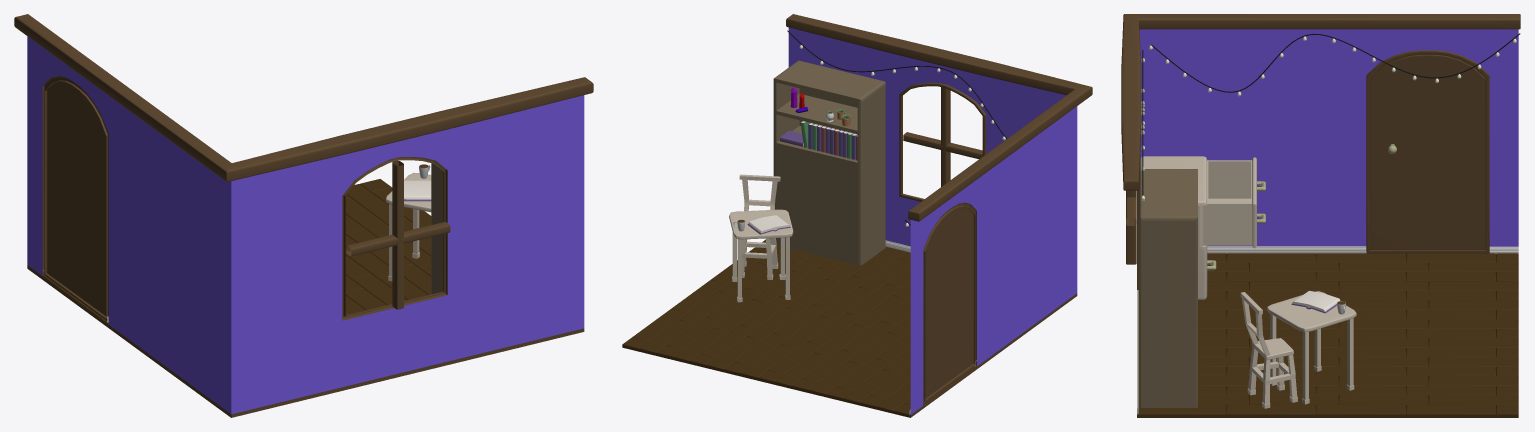
File: SceneOne.fbx
3 views of the same model, side by side, from view 1: azimuth 30°, elevation 25°; view 2: azimuth 150°, elevation 25°; view 3: azimuth 270°, elevation 25° (orthographic). The views are drawn at different scales.
Parts seen in each view (by area): view 1: Walls, floor, VerticalWindowSlat, bookshelf, HorizontalWindowSlat, table, openBook; view 2: Walls, floor, bookshelf, table, chair, VerticalWindowSlat, HorizontalWindowSlat, FairyLights, openBook; view 3: Walls, floor, bookshelf, Cabinet, table, chair, WallTrim, FairyLights, openBook, VerticalWindowSlat.
Boxes of the visible parts, x1,y1,x2,y2 form: Walls: (14, 14, 593, 417); floor: (43, 179, 431, 324); VerticalWindowSlat: (392, 161, 403, 309); bookshelf: (431, 163, 442, 294); HorizontalWindowSlat: (345, 221, 450, 256); table: (386, 172, 431, 281); openBook: (404, 180, 431, 201); Walls: (786, 14, 1092, 417); floor: (622, 238, 976, 417); bookshelf: (773, 60, 885, 265); table: (729, 209, 793, 302); chair: (739, 174, 780, 279); VerticalWindowSlat: (941, 87, 950, 186); HorizontalWindowSlat: (903, 132, 982, 159); FairyLights: (787, 30, 1007, 226); openBook: (747, 215, 790, 234); Walls: (1121, 14, 1520, 289); floor: (1137, 253, 1518, 417); bookshelf: (1139, 169, 1197, 407); Cabinet: (1140, 156, 1265, 299); table: (1267, 291, 1356, 404); chair: (1240, 292, 1297, 408); WallTrim: (1137, 246, 1366, 414); FairyLights: (1141, 33, 1520, 201); openBook: (1291, 291, 1340, 313); VerticalWindowSlat: (1126, 190, 1136, 264).
Size of the model in its own units: 88.37 by 58.52 by 89.
